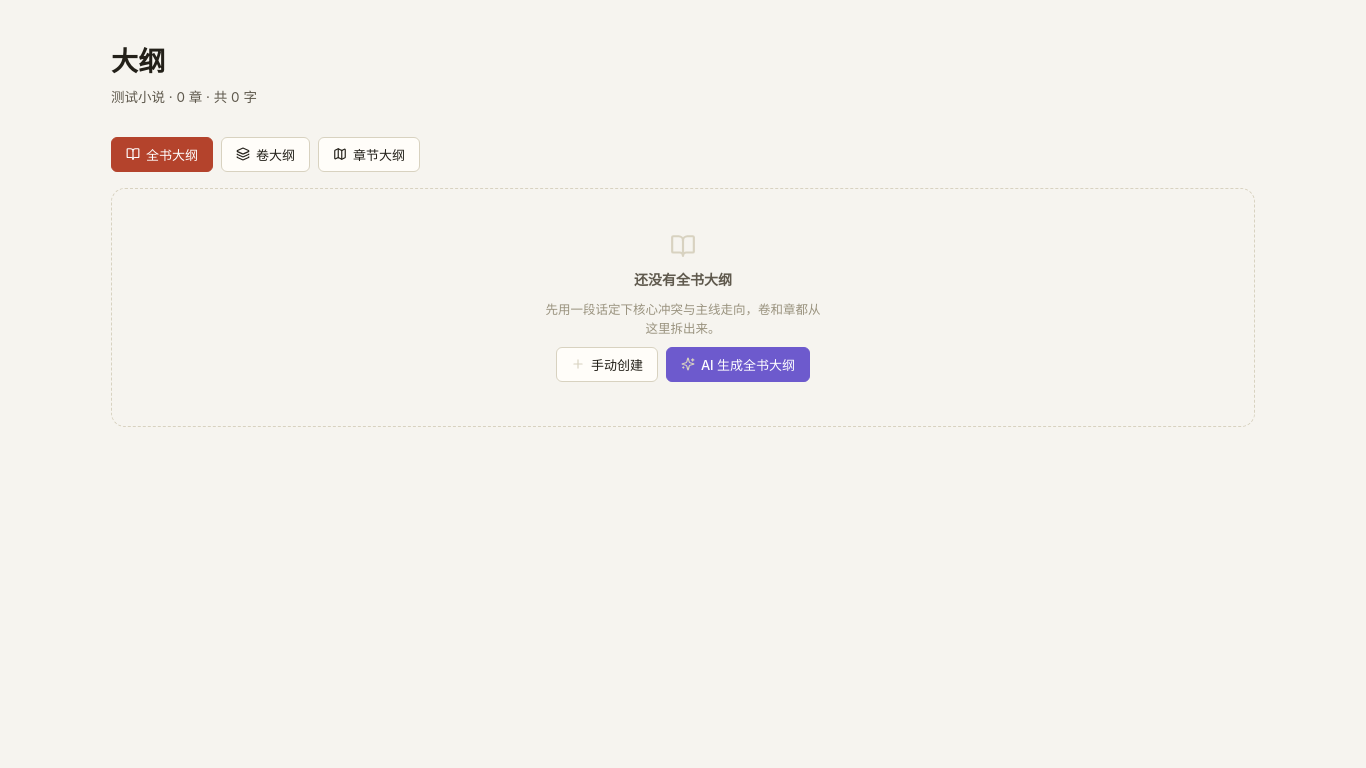
Test: 新建卷默认预填卷号与章节范围
Click the button "卷大纲". click: (266, 154)
box: [221,137,310,172]
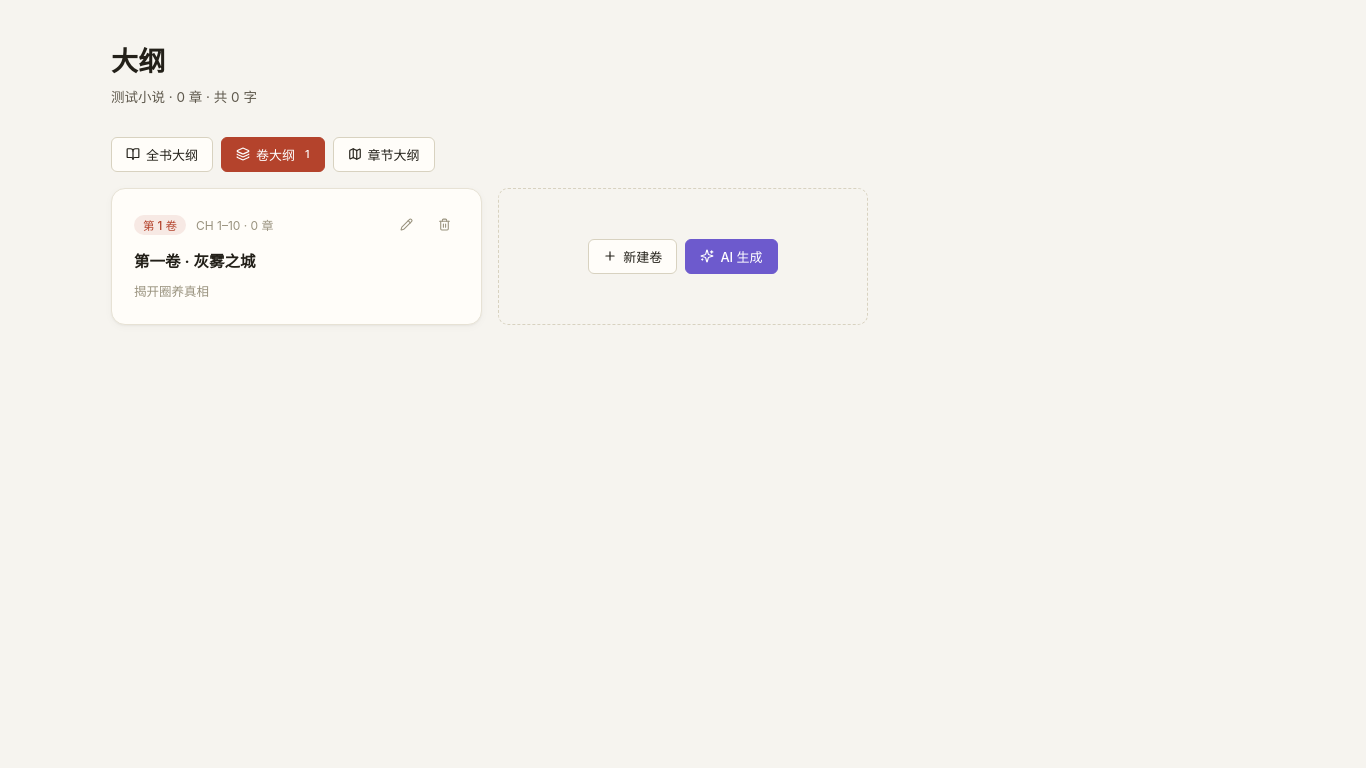
Click the button "新建卷". click: (633, 256)
box: [588,239,677,274]
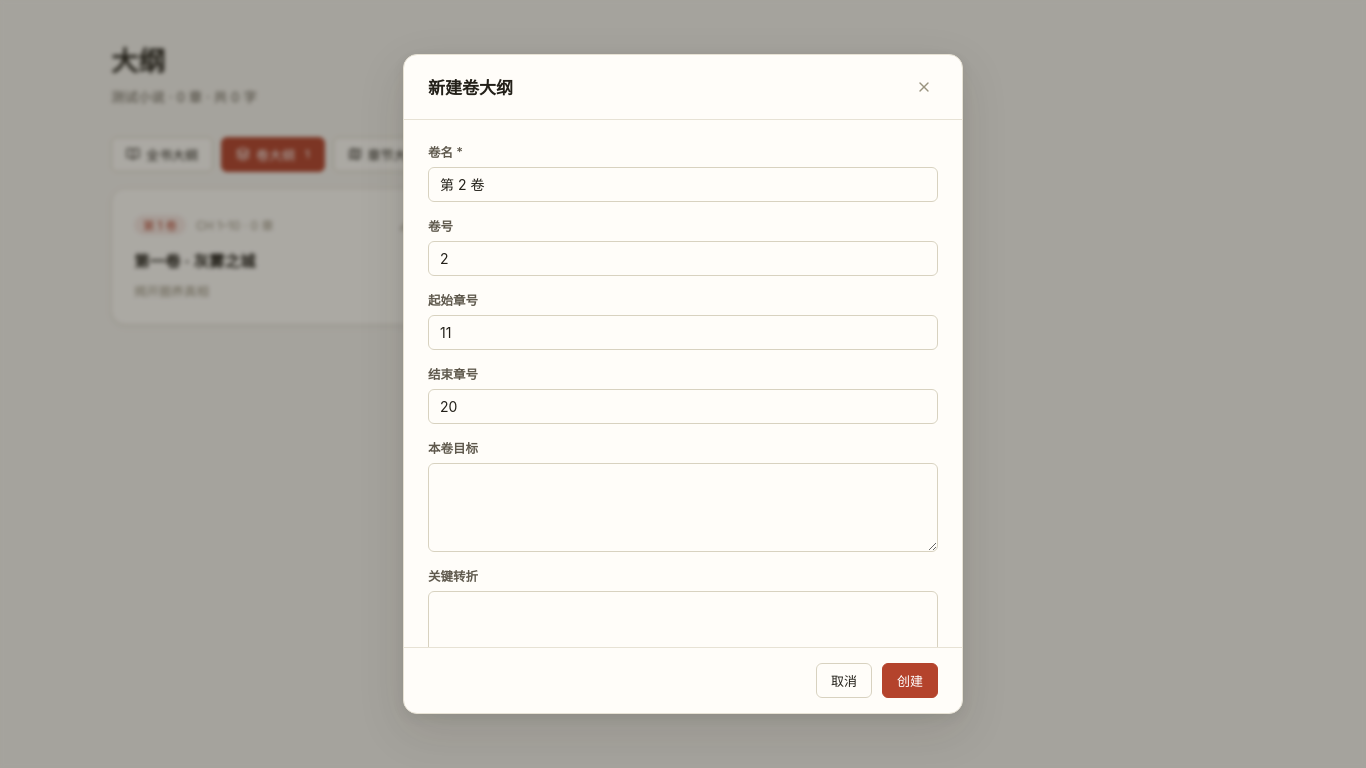
Expected: the field showing "2" is shown, [428,241,938,276]
Expected: the field showing "11" is shown, [428,315,938,350]
